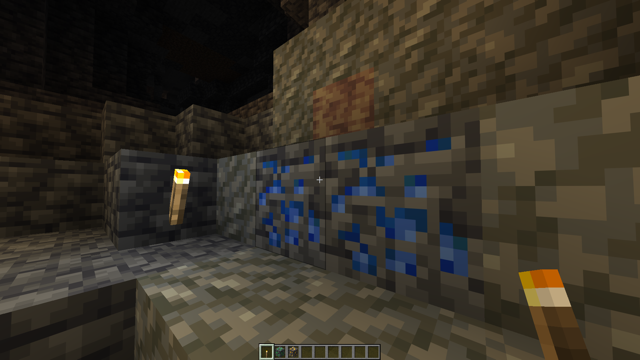lapis: (260, 114, 486, 308)
